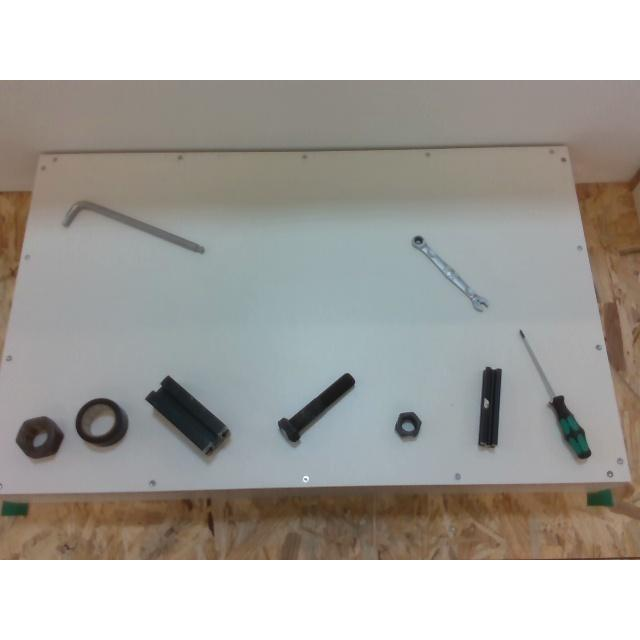AllenKey: (62, 201, 206, 255)
F20_20_B: (478, 366, 500, 446)
M20: (394, 411, 422, 437)
M20_100: (277, 372, 355, 443)
M30: (15, 416, 64, 459)
S40_40_B: (145, 376, 229, 452)
Screwdriver: (518, 328, 592, 460)
Wrench: (411, 234, 487, 310)
